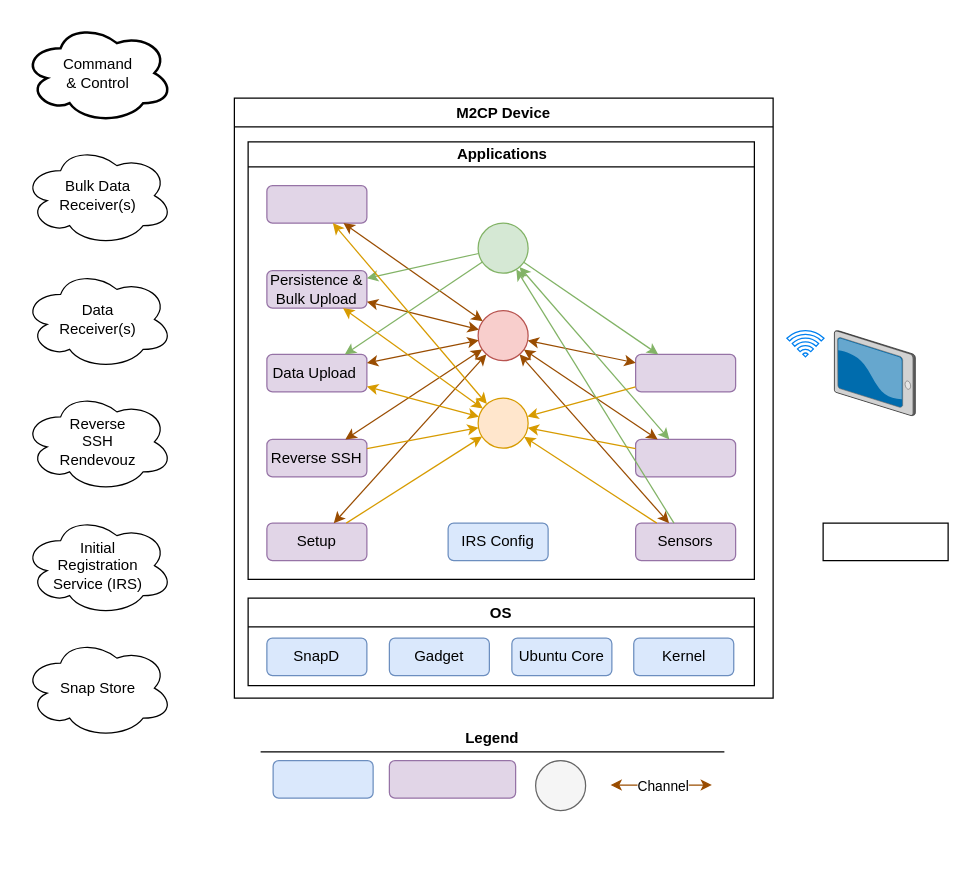
The diagram is 970 pixels wide and 895 high, and some of its shapes have lost their labels. Each missing label, with the centre of its shape:
Agent: the point at 316,203
control: the point at 502,335
data: the point at 502,247
RabbitMQ Exchange: the point at 560,785
Sensor Device(s): the point at 885,541
signal: the point at 502,422
Snap Package: the point at 322,778
Snap Package (M2CP.2 Plugin): the point at 452,778
Transformers: the point at 685,457
UI: the point at 685,372
